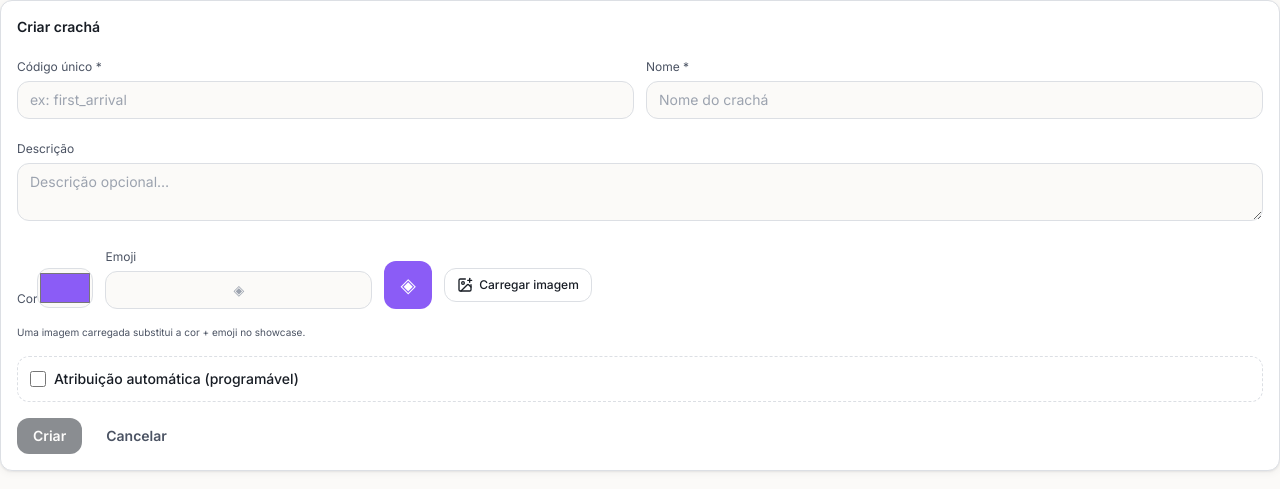
it: BadgeForm › enables submit once name and code are filled for a new badge
Type "My Badge" into the field with placeholder "Nome do crachá" at (954, 100), box [646, 81, 1263, 119]
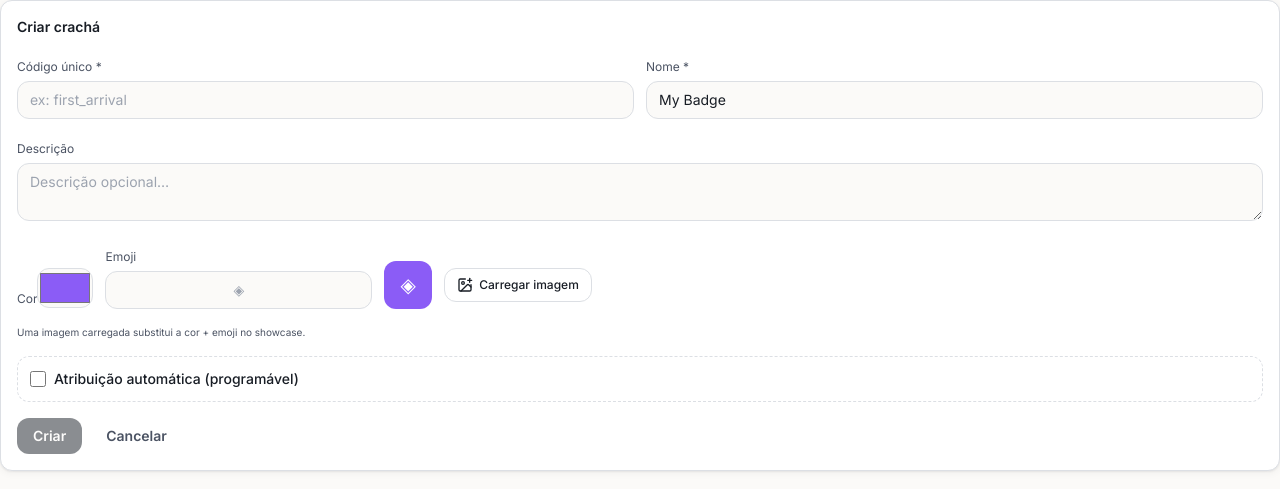
Type "MYCODE" into the field with placeholder "ex: first_arrival" at (326, 100), box [17, 81, 634, 119]
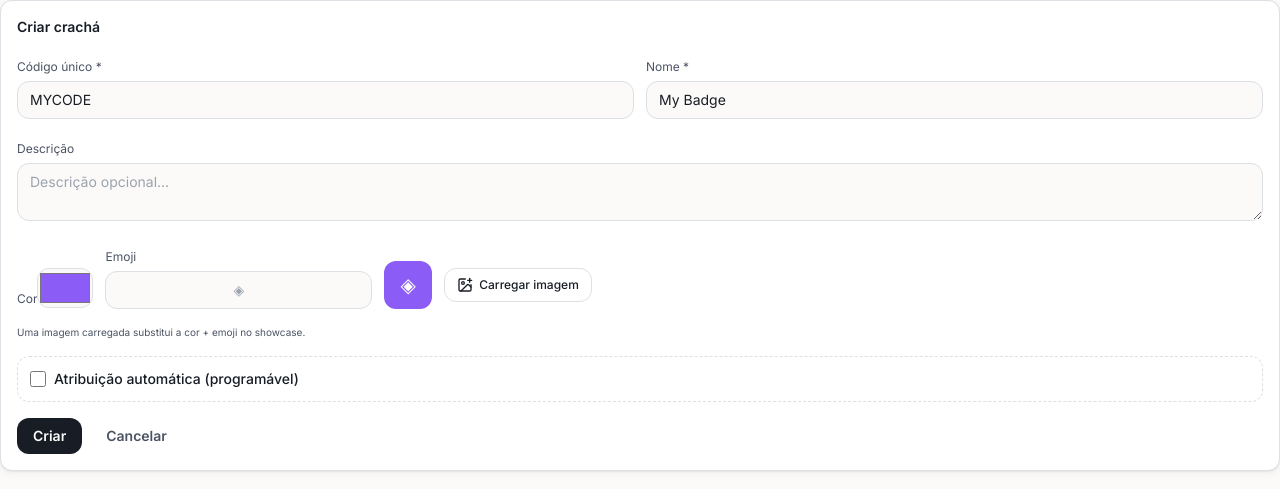
Expected: the button "Criar" is enabled, [17, 418, 82, 454]
